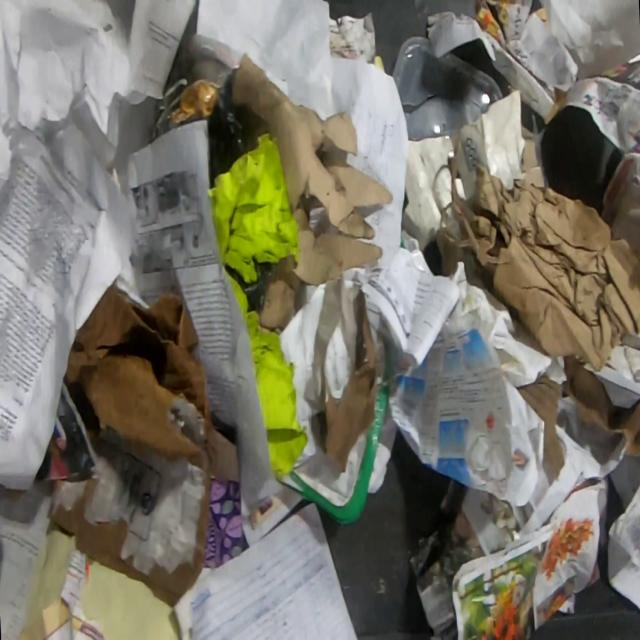cardboard: (45, 281, 211, 608), (228, 52, 393, 335), (402, 89, 545, 252), (425, 0, 578, 125), (515, 354, 640, 486), (286, 384, 388, 525), (322, 288, 378, 473), (204, 419, 251, 569), (583, 333, 640, 409), (602, 151, 640, 255)
rigid_plastic: (390, 35, 504, 141)
soft_plastic: (146, 26, 269, 189)
